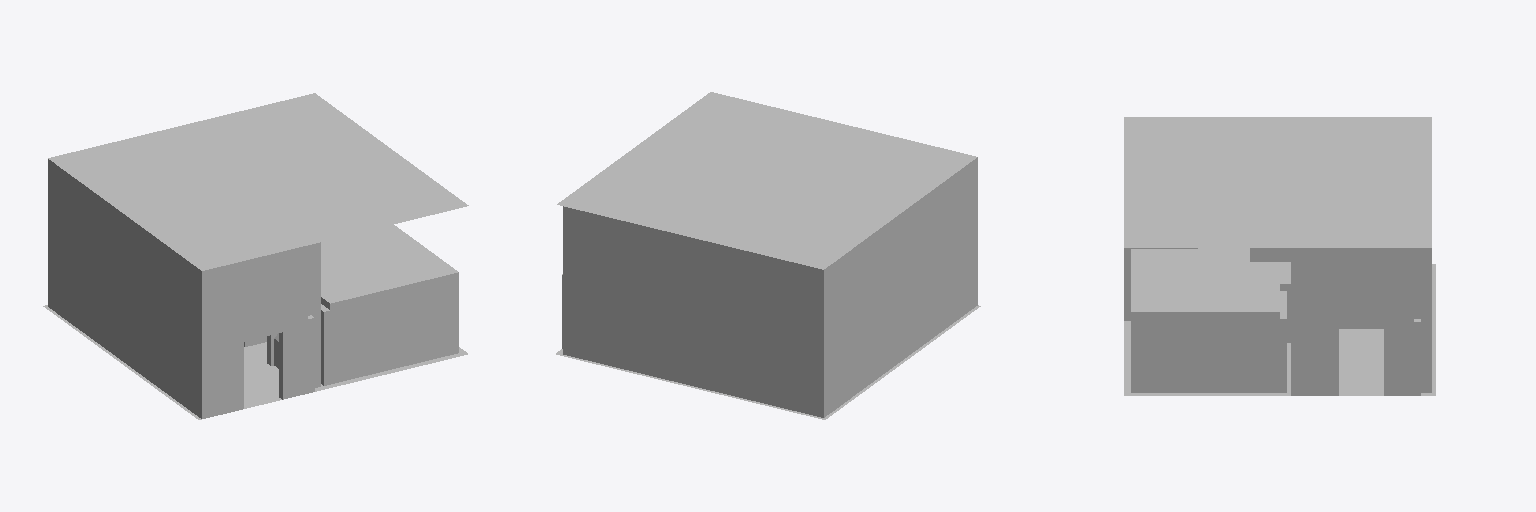
File: LC_room2C.obj
The picture shows the model from 3 angles: view 1: azimuth 30°, elevation 25°; view 2: azimuth 150°, elevation 25°; view 3: azimuth 270°, elevation 25°; orthographic projection.
Visible parts, largest first — view 1: LC_room2C; view 2: LC_room2C; view 3: LC_room2C.
Part boxes in pixels (left/top/right/bottom): LC_room2C: left=43, top=93, right=468, bottom=419; LC_room2C: left=556, top=92, right=980, bottom=419; LC_room2C: left=1124, top=117, right=1435, bottom=395.
Size of the model in its own units: 13.12 by 6.87 by 13.12.